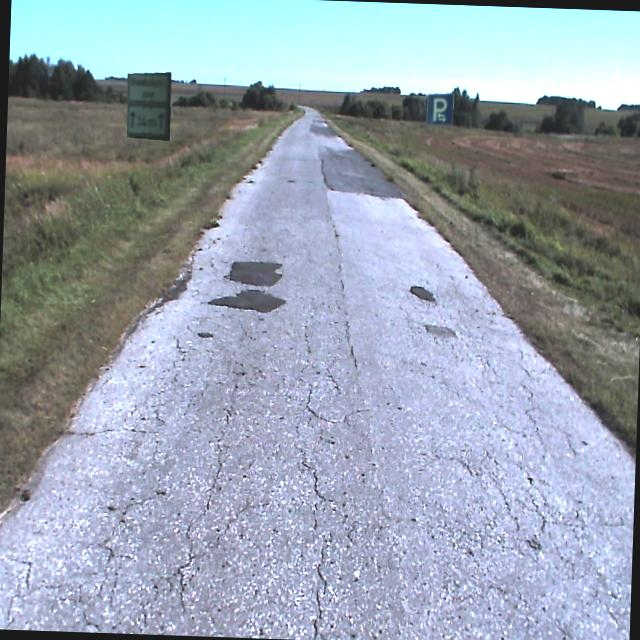road: (0, 108, 635, 640)
